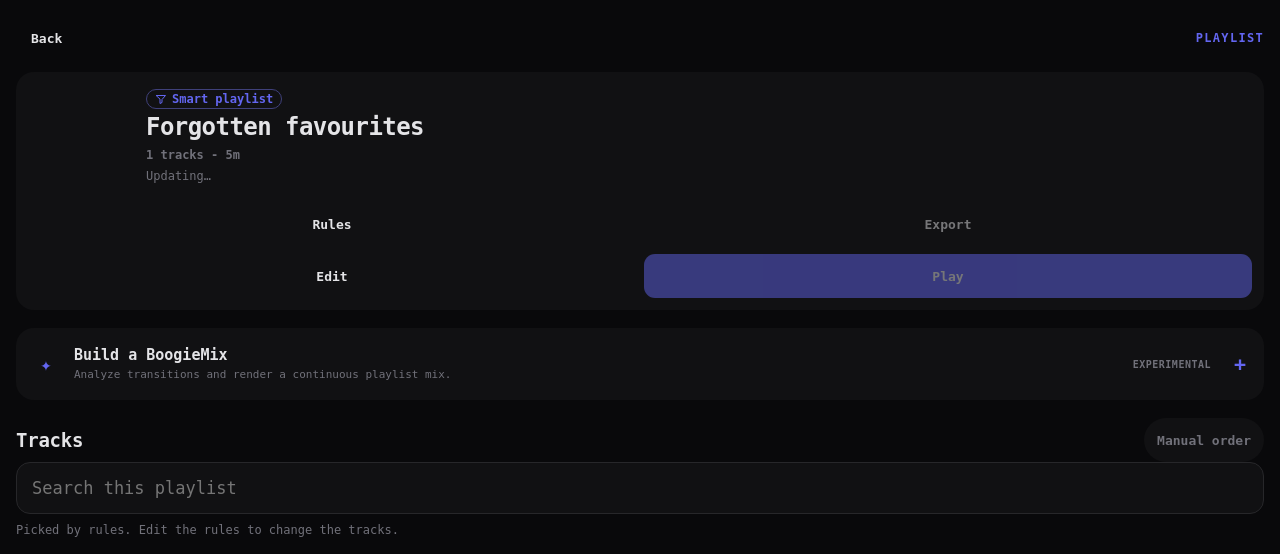
Scenario: MobilePlaylistsView smart playlists › shows Updating… while loading and ignores an answer that arrives after Back
expect the text "Updating…" is shown: met, box [146,169,211,183]
Click the button "Back" at (47, 38), box [16,16,77,60]
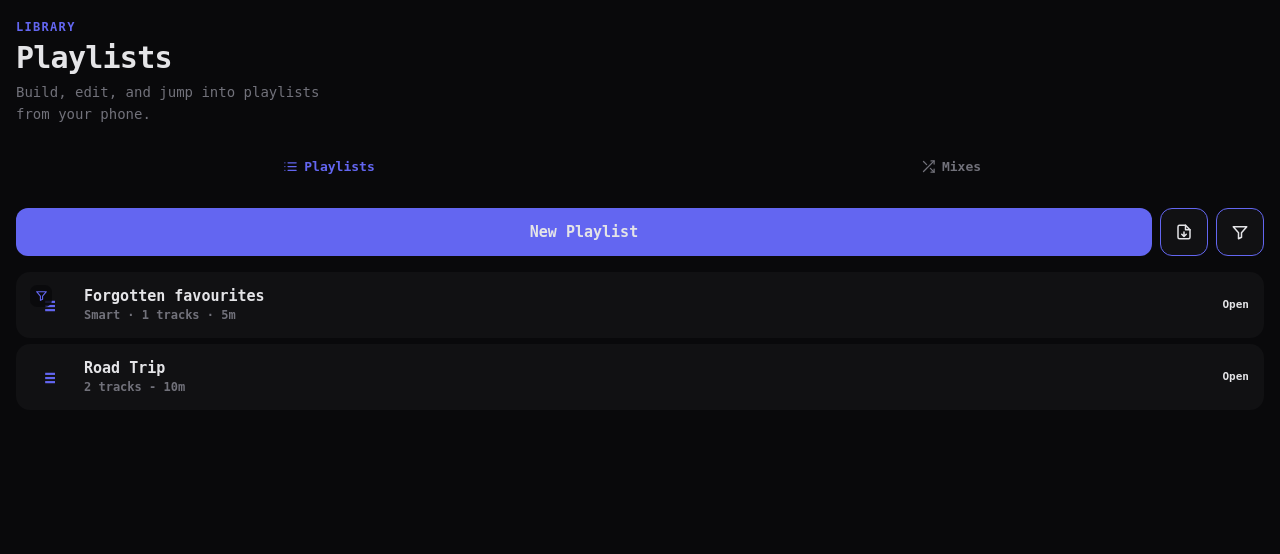
expect the heading "Playlists" is shown: met, box [16,40,172,75]
